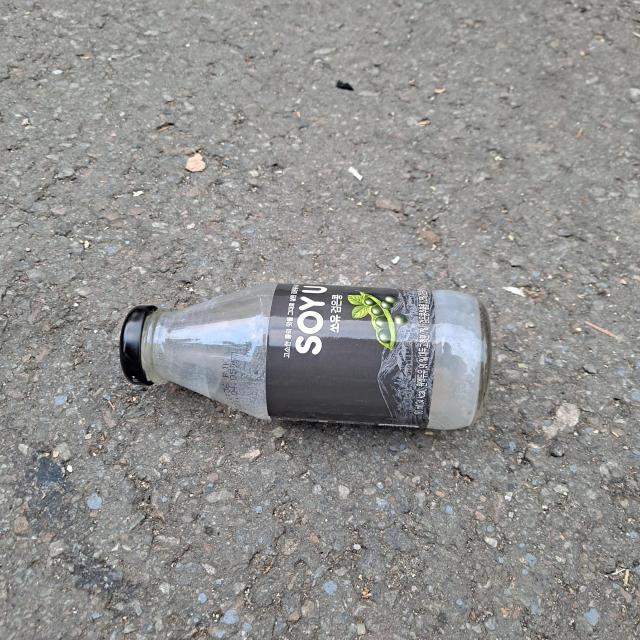glass: (120, 283, 491, 430)
